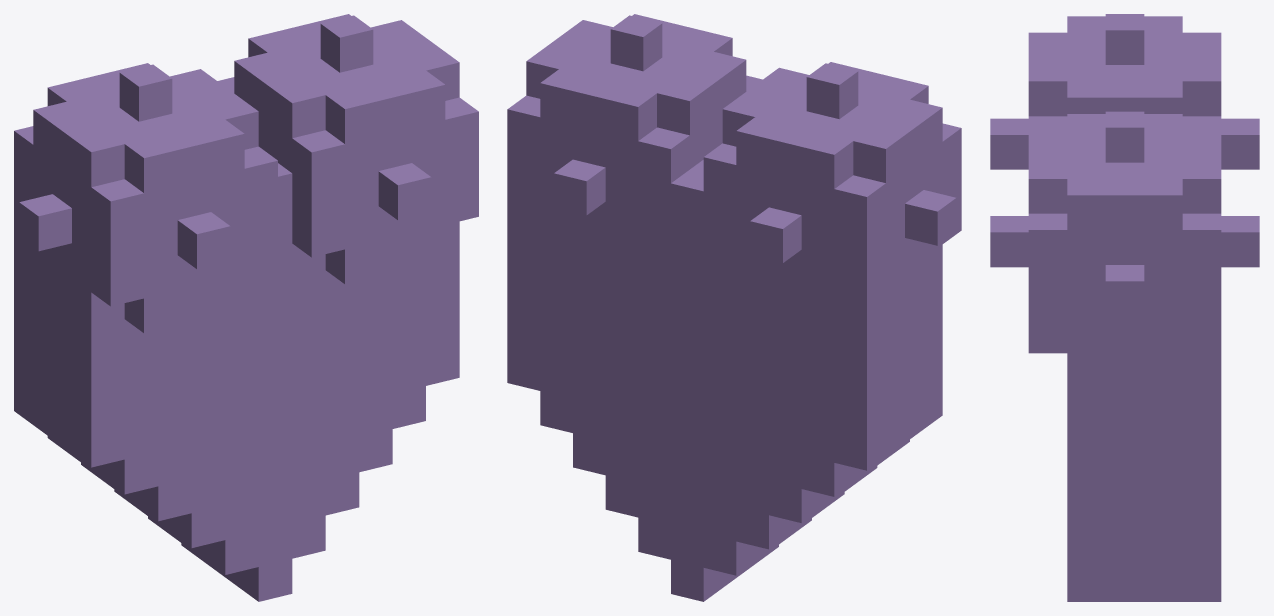
Rendered from games-18.glb.
3 views of the same model, side by side, from view 1: azimuth 30°, elevation 25°; view 2: azimuth 150°, elevation 25°; view 3: azimuth 270°, elevation 25° (orthographic). The views are drawn at different scales.
Visible parts, largest first — view 1: Pixel heart; view 2: Pixel heart; view 3: Pixel heart.
Boxes of the visible parts, x1,y1,x2,y2 form: Pixel heart: (14, 14, 478, 601); Pixel heart: (507, 14, 961, 601); Pixel heart: (990, 14, 1259, 601).
Size of the model in its own units: 1.04 by 1.2 by 0.56.
